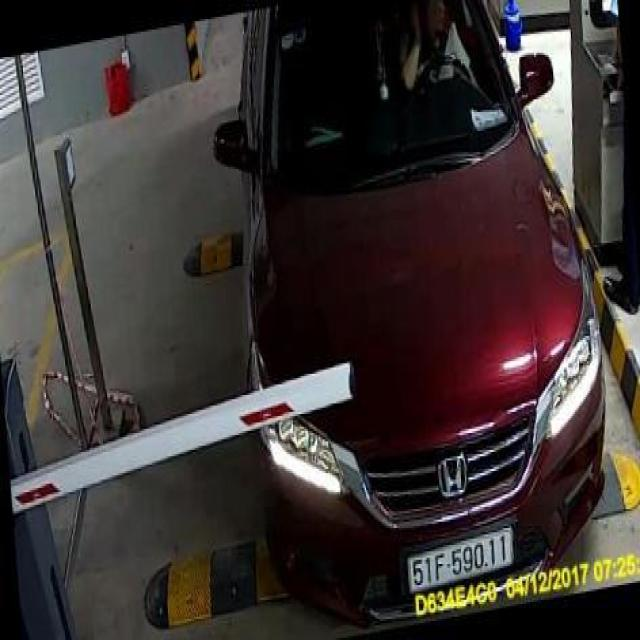License-Plates: (404, 509, 516, 598)
